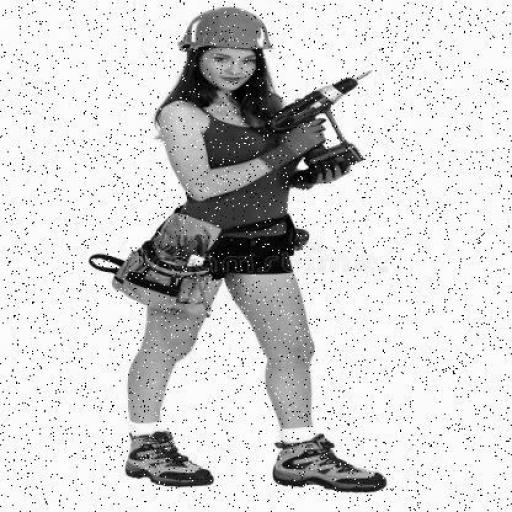person: (86, 8, 385, 502)
safety_shoe: (265, 438, 396, 495), (113, 422, 216, 488)
